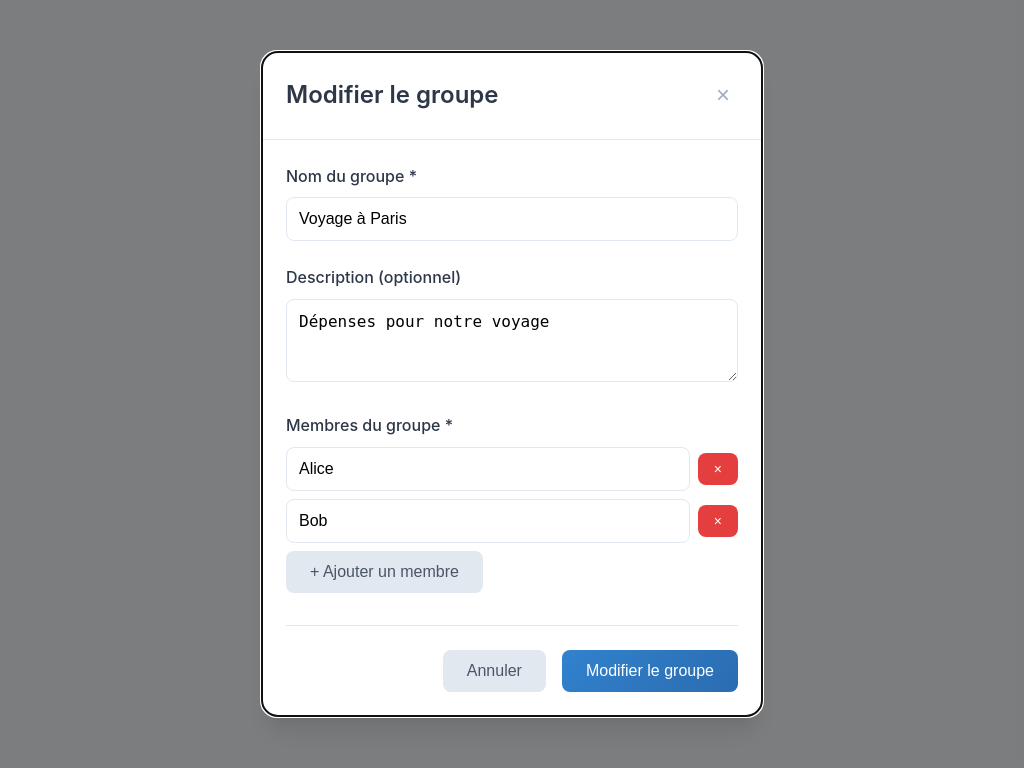
EditGroupModal › permet d'ajouter un nouveau membre
Step 1. Click the button "+ Ajouter un membre" → (384, 572), box [286,551,483,593]
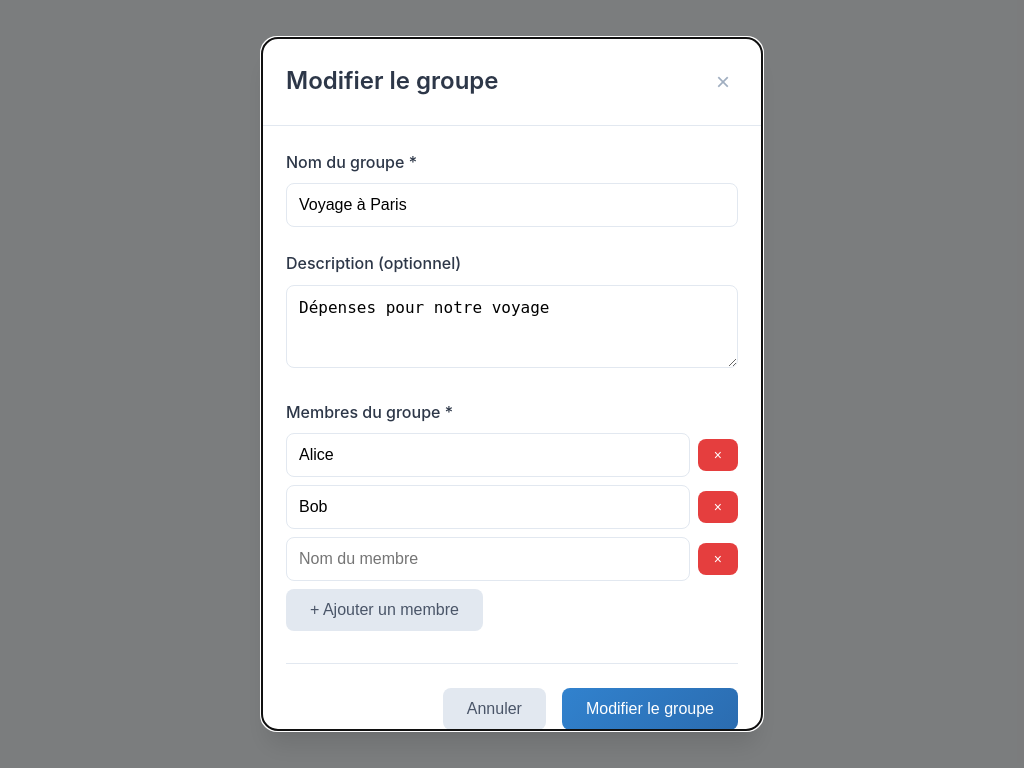
Expected: the number of fields with placeholder "Nom du membre" is 3, [286,433,690,477]; [286,485,690,529]; [286,537,690,581]
